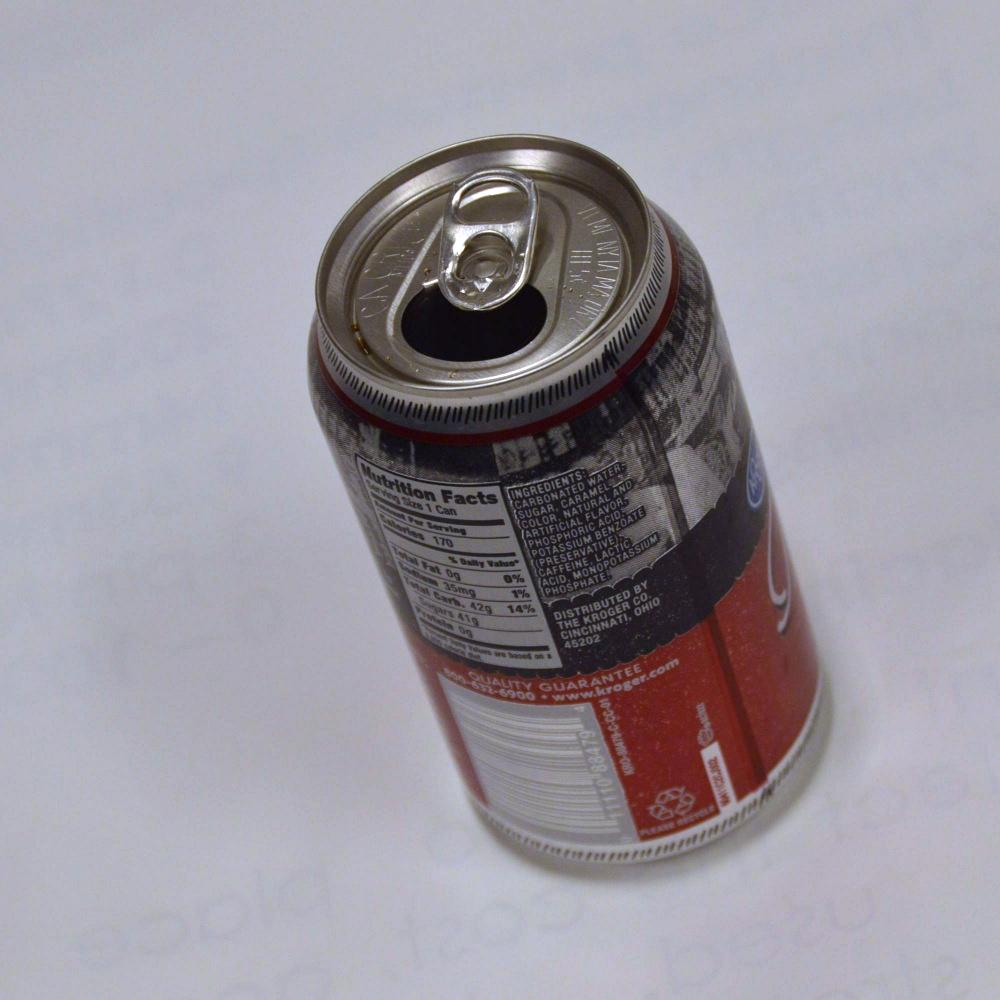Metal: (285, 110, 851, 918)
